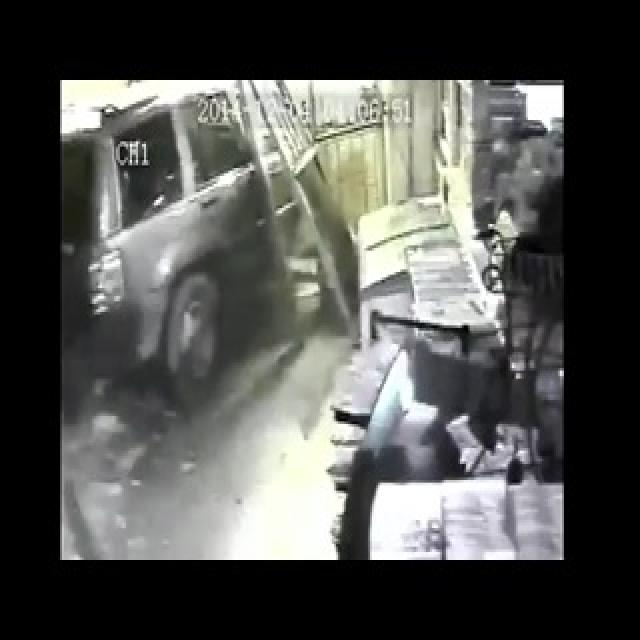burglary: (70, 88, 340, 401)
